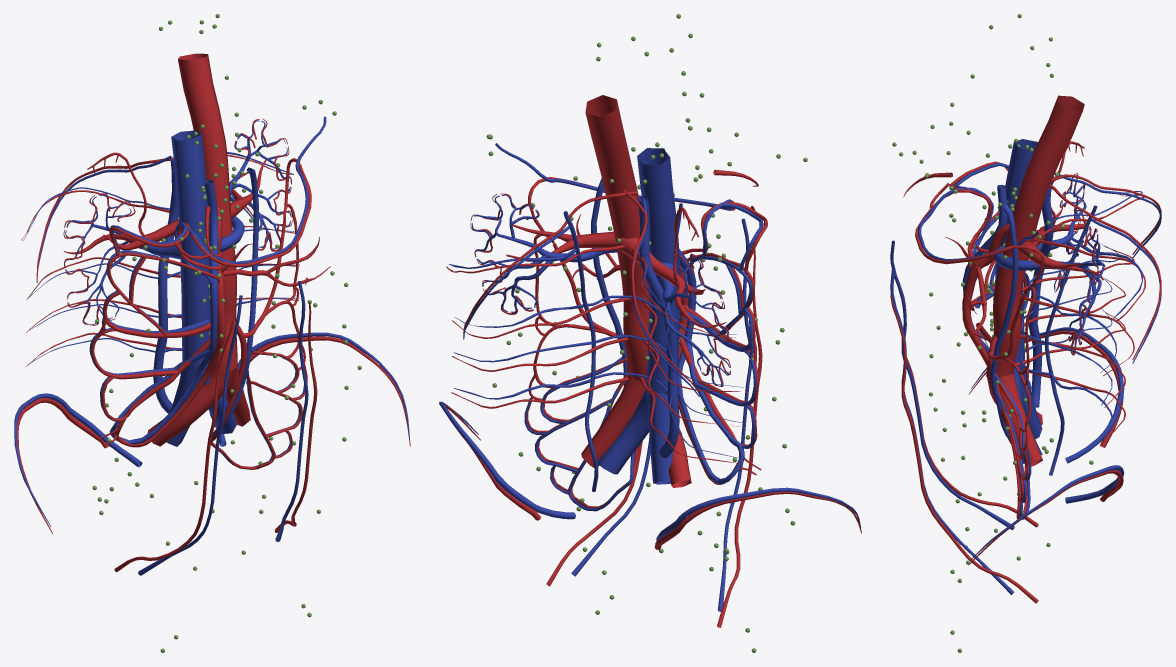
File: vessels-abdomen.glb
The picture shows the model from 3 angles, left to right: view 1: azimuth 30°, elevation 25°; view 2: azimuth 150°, elevation 25°; view 3: azimuth 270°, elevation 25°; orthographic projection. The views are drawn at different scales.
Parts seen in each view (by area): view 1: vessel-abdominal-aorta, vessel-inferior-vena-cava-abdominal-part, vessel-superior-mesenteric-vein, vessel-superior-mesenteric-artery, vessel-right-ascending-lumbar-vein, vessel-common-iliac-artery-r, vessel-anterior-inferior-pancreaticoduodenal-artery, vessel-inferior-mesenteric-vein, vessel-sigmoid-arteries, vessel-lumbar-arteries-r, vessel-inferior-epigastric-vein-r, vessel-iliolumbar-vein-r (+19 smaller); view 2: vessel-abdominal-aorta, vessel-inferior-vena-cava-abdominal-part, vessel-right-ascending-lumbar-vein, vessel-lumbar-arteries-l, vessel-superior-mesenteric-vein, vessel-common-iliac-artery-l, vessel-intrarenal-veins-of-left-kidney, vessel-common-iliac-vein-l, vessel-sigmoid-veins, vessel-common-iliac-vein-r, vessel-lumbar-veins-l, vessel-intrarenal-veins-of-right-kidney (+22 smaller); view 3: vessel-abdominal-aorta, vessel-right-ascending-lumbar-vein, vessel-superior-mesenteric-artery, vessel-lumbar-arteries-l, vessel-inferior-vena-cava-abdominal-part, vessel-inferior-epigastric-artery-l, vessel-inferior-mesenteric-vein, vessel-inferior-epigastric-vein-r, vessel-common-iliac-artery-l, vessel-anterior-inferior-pancreaticoduodenal-artery, vessel-lumbar-arteries-r, vessel-left-ascending-lumbar-vein (+22 smaller).
Part boxes in pixels (x1,y1,x2,y2): vessel-abdominal-aorta: (178, 53, 237, 372); vessel-inferior-vena-cava-abdominal-part: (171, 130, 210, 368); vessel-superior-mesenteric-vein: (109, 180, 218, 444); vessel-superior-mesenteric-artery: (98, 207, 330, 447); vessel-right-ascending-lumbar-vein: (153, 159, 182, 413); vessel-common-iliac-artery-r: (147, 363, 237, 446); vessel-anterior-inferior-pancreaticoduodenal-artery: (109, 165, 311, 270); vessel-inferior-mesenteric-vein: (212, 167, 258, 437); vessel-sigmoid-arteries: (211, 351, 307, 469); vessel-lumbar-arteries-r: (21, 190, 181, 366); vessel-inferior-epigastric-vein-r: (138, 295, 242, 575); vessel-iliolumbar-vein-r: (14, 393, 142, 526); vessel-abdominal-aorta: (585, 95, 649, 383); vessel-inferior-vena-cava-abdominal-part: (637, 148, 680, 392); vessel-right-ascending-lumbar-vein: (587, 196, 679, 457); vessel-lumbar-arteries-l: (446, 245, 630, 408); vessel-superior-mesenteric-vein: (677, 249, 744, 484); vessel-common-iliac-artery-l: (581, 375, 646, 467); vessel-intrarenal-veins-of-left-kidney: (472, 194, 586, 312); vessel-common-iliac-vein-l: (597, 385, 667, 474); vessel-sigmoid-veins: (524, 356, 630, 511); vessel-common-iliac-vein-r: (646, 386, 673, 484); vessel-lumbar-veins-l: (449, 248, 592, 399); vessel-intrarenal-veins-of-right-kidney: (662, 255, 729, 386); vessel-abdominal-aorta: (986, 95, 1084, 377); vessel-right-ascending-lumbar-vein: (1019, 176, 1054, 407); vessel-superior-mesenteric-artery: (945, 223, 1009, 366); vessel-lumbar-arteries-l: (1020, 238, 1145, 441); vessel-inferior-vena-cava-abdominal-part: (995, 139, 1037, 367); vessel-inferior-epigastric-artery-l: (890, 295, 1038, 603); vessel-inferior-mesenteric-vein: (990, 205, 1018, 441); vessel-inferior-epigastric-vein-r: (890, 240, 1014, 529); vessel-common-iliac-artery-l: (987, 372, 1042, 467); vessel-anterior-inferior-pancreaticoduodenal-artery: (915, 161, 1015, 264); vessel-lumbar-arteries-r: (1015, 194, 1144, 365); vessel-left-ascending-lumbar-vein: (1045, 205, 1097, 475).
Size of the model in its own units: 0.2497 by 0.3793 by 0.16.
